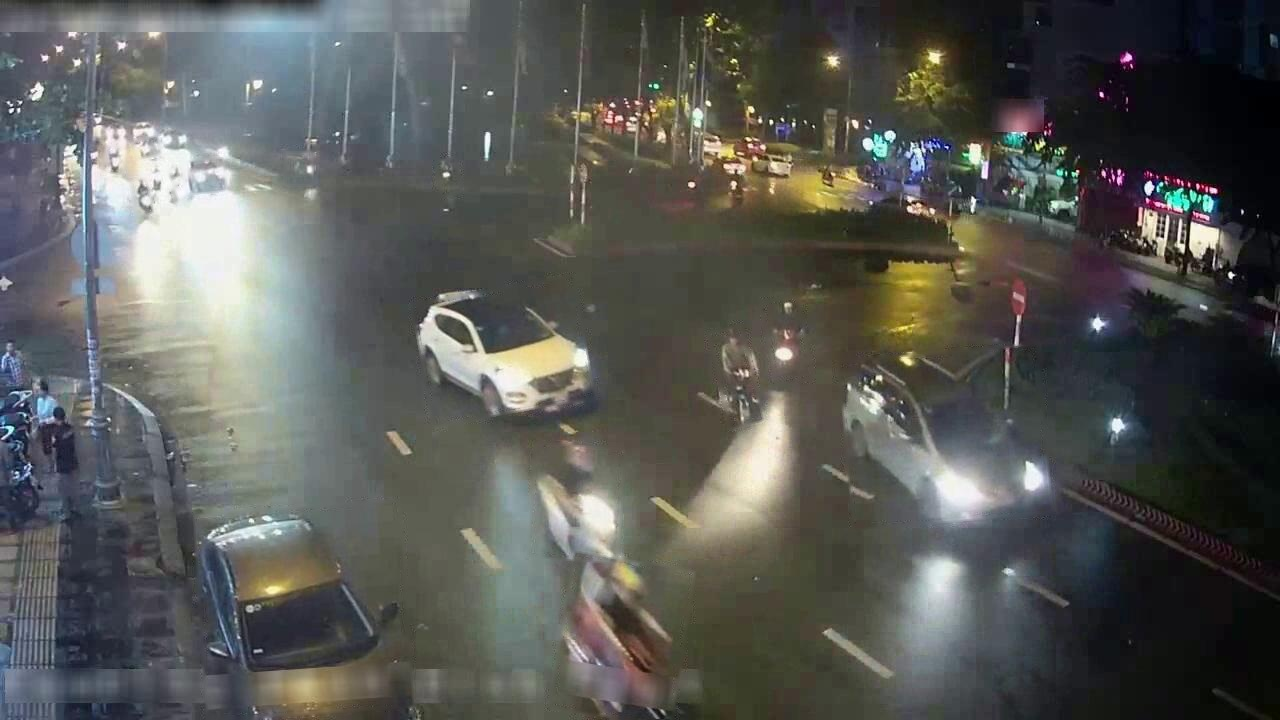Car: (842, 352, 1052, 525), (198, 514, 397, 672), (417, 290, 594, 417), (563, 558, 673, 719), (537, 475, 615, 559), (771, 326, 800, 379), (187, 159, 227, 194), (751, 152, 792, 177), (733, 137, 766, 161), (136, 138, 159, 159), (703, 134, 721, 159)
Motorcyclist: (719, 330, 760, 424), (283, 153, 317, 181), (436, 159, 459, 196), (165, 166, 187, 203), (135, 181, 153, 215), (107, 146, 122, 174)
Pedestrian: (46, 406, 80, 520), (0, 340, 28, 393), (34, 378, 58, 424)
Sign: (1010, 277, 1027, 316)
Traffic light: (482, 130, 494, 163)
